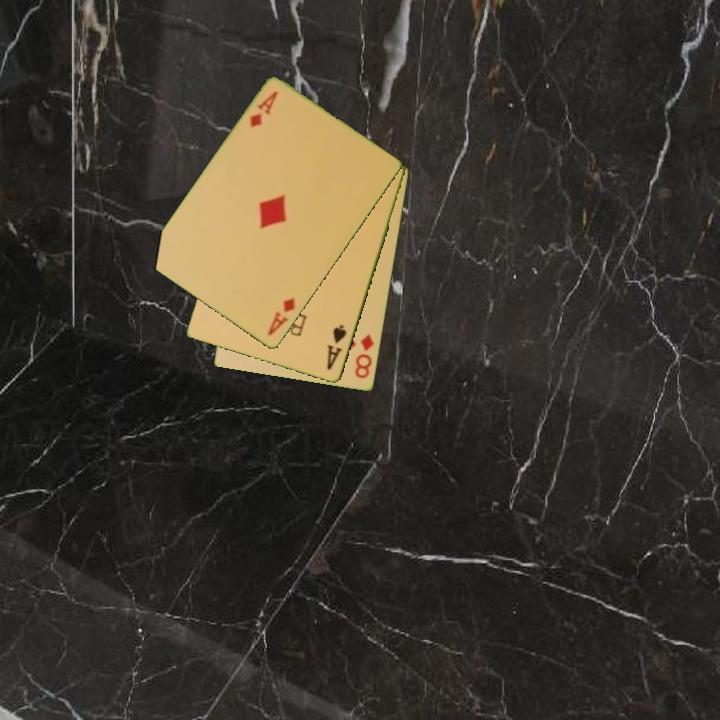8d: (352, 331, 377, 382)
Ad: (264, 294, 298, 339), (246, 88, 281, 131)
As: (323, 322, 350, 374)
